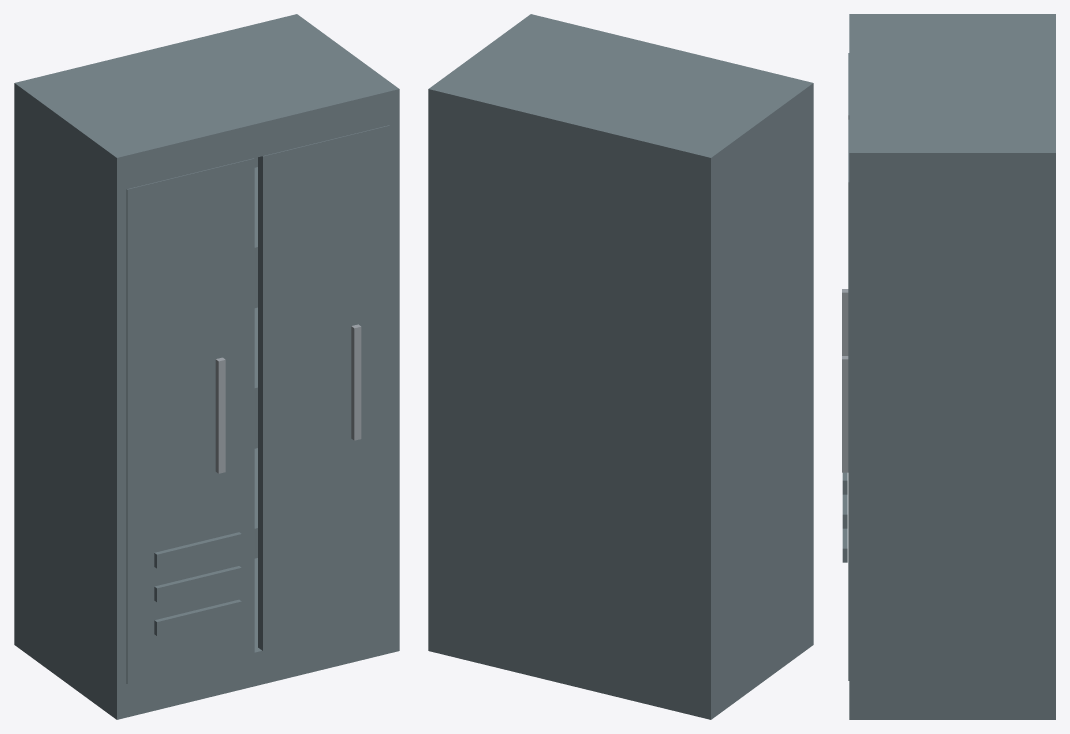
3 views of the same model, side by side, from view 1: azimuth 30°, elevation 25°; view 2: azimuth 150°, elevation 25°; view 3: azimuth 270°, elevation 25° (orthographic).
Parts seen in each view (by area): view 1: g0.001, g0.013, g0.005, g0.007, g0.014, g0.011, g0, g0.010, g0.012, g0.002, g0.003; view 2: g0.009, g0.013, g0.007, g0.014, g0.011; view 3: g0.011, g0.007, g0.001, g0.003, g0.002.
Boxes of the visible parts, x1,y1,x2,y2 form: g0.001: (258,125,390,650); g0.013: (14,83,133,719); g0.005: (126,158,254,683); g0.007: (15,14,399,191); g0.014: (117,558,399,719); g0.011: (382,89,399,619); g0: (154,599,241,635); g0.010: (154,566,241,602); g0.012: (154,532,241,568); g0.002: (215,357,225,473); g0.003: (351,324,361,440); g0.009: (428,89,714,719); g0.013: (694,83,813,701); g0.007: (428,14,812,190); g0.014: (428,617,812,718); g0.011: (428,89,445,653); g0.011: (849,144,1055,719); g0.007: (849,14,1055,186); g0.001: (848,119,849,680); g0.003: (842,356,848,472); g0.002: (842,289,848,355).
Size of the model in its own units: 1 by 1.9 by 0.65.
